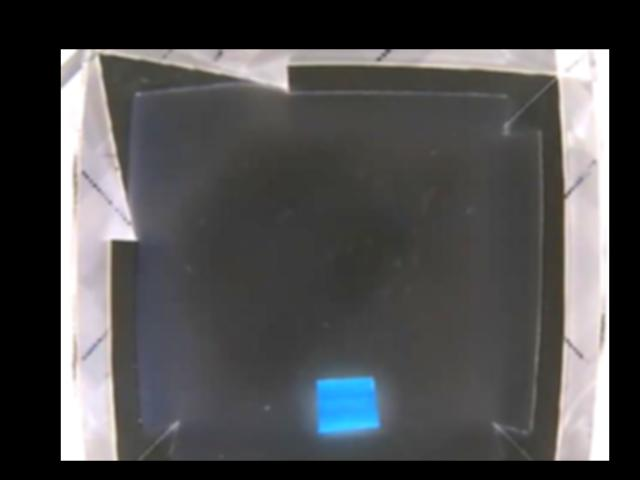Carrot: (311, 375, 382, 434)
